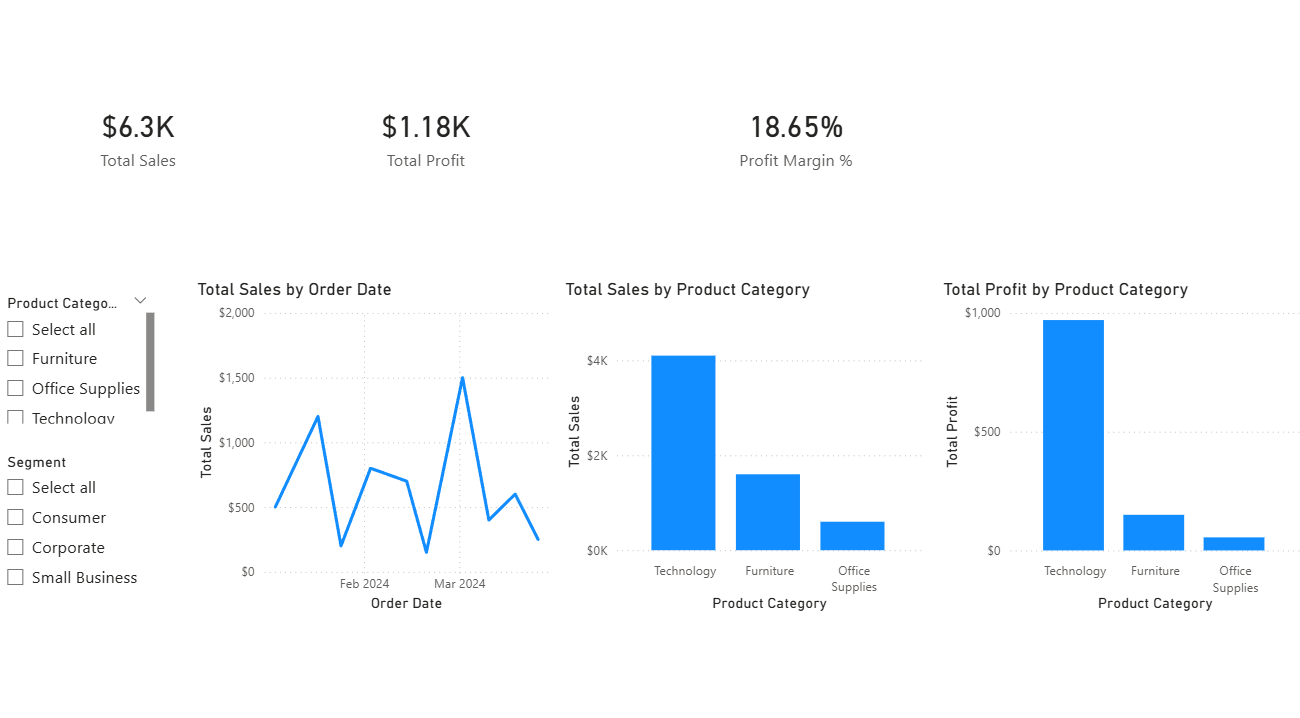

Layout of this report page (visuals, bound fields, positions):
{"tool":"powerbi","page":{"name":"Page 1","canvas":[1280,720],"ordinal":0},"visuals":[{"type":"card","fields":{"Values":["sales_data.Total Sales"]},"box":[0,0,280.1,280.1],"z":0},{"type":"card","fields":{"Values":["sales_data.Total Profit"]},"box":[280.1,0,280.1,280.1],"z":1000},{"type":"card","fields":{"Values":["sales_data.Profit Margin %"]},"box":[640,0,280.1,280.1],"z":2000},{"type":"slicer","fields":{"Values":["sales_data.Product Category"]},"box":[0,289.8,161.5,136.2],"z":3000},{"type":"lineChart","fields":{"Y":["sales_data.Total Sales"],"Category":["sales_data.Order Date"]},"box":[192.6,280.1,367.7,327.8],"z":4000},{"type":"clusteredColumnChart","fields":{"Category":["sales_data.Product Category"],"Y":["sales_data.Total Sales"]},"box":[550.5,280.1,357,327.8],"z":5000},{"type":"clusteredColumnChart","fields":{"Category":["sales_data.Product Category"],"Y":["sales_data.Total Profit"]},"box":[918,280,357,328],"z":6000},{"type":"slicer","fields":{"Values":["sales_data.Segment"]},"box":[0,444.5,161.5,194.5],"z":6001}]}

Visuals, with their boxes in screenshot pixels (x1, y1, x2, y2), scaled from the page's 1280x720 canvas onto the 1300x718 screenshot:
card - sales_data.Total Sales: (x1=0, y1=0, x2=284, y2=279)
card - sales_data.Total Profit: (x1=284, y1=0, x2=569, y2=279)
card - sales_data.Profit Margin %: (x1=650, y1=0, x2=934, y2=279)
slicer - sales_data.Product Category: (x1=0, y1=289, x2=164, y2=425)
lineChart - sales_data.Total Sales x sales_data.Order Date: (x1=196, y1=279, x2=569, y2=606)
clusteredColumnChart - sales_data.Product Category x sales_data.Total Sales: (x1=559, y1=279, x2=922, y2=606)
clusteredColumnChart - sales_data.Product Category x sales_data.Total Profit: (x1=932, y1=279, x2=1295, y2=606)
slicer - sales_data.Segment: (x1=0, y1=443, x2=164, y2=637)
